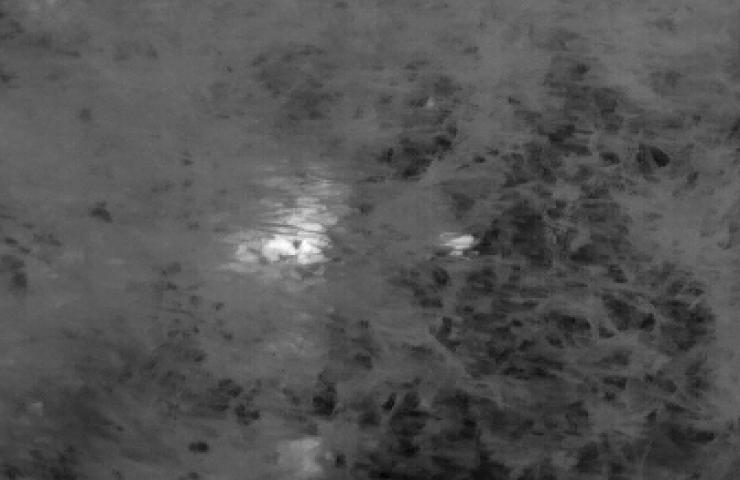landmines: (261, 214, 340, 274)
